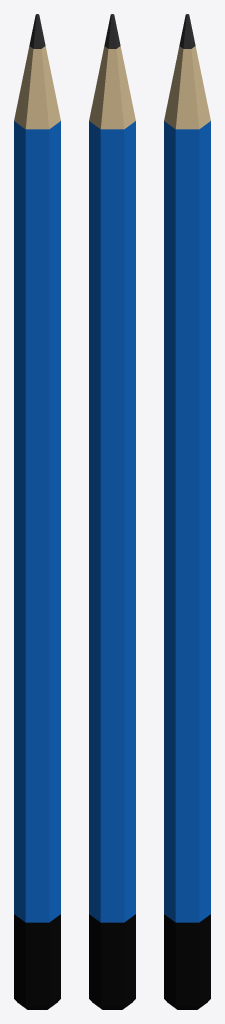
The model's file is Pencil_V2.fbx.
The picture shows the model from 3 angles, left to right: view 1: azimuth 90°, elevation 25°; view 2: azimuth 150°, elevation 25°; view 3: azimuth 270°, elevation 25°; orthographic projection.
Parts seen in each view (by area): view 1: Pencil_Visual; view 2: Pencil_Visual; view 3: Pencil_Visual.
Part boxes in pixels (bbox=[...]): Pencil_Visual: bbox=[14, 14, 60, 1009]; Pencil_Visual: bbox=[89, 14, 135, 1009]; Pencil_Visual: bbox=[164, 14, 210, 1009].
Size of the model in its own units: 15.59 by 419 by 18.
